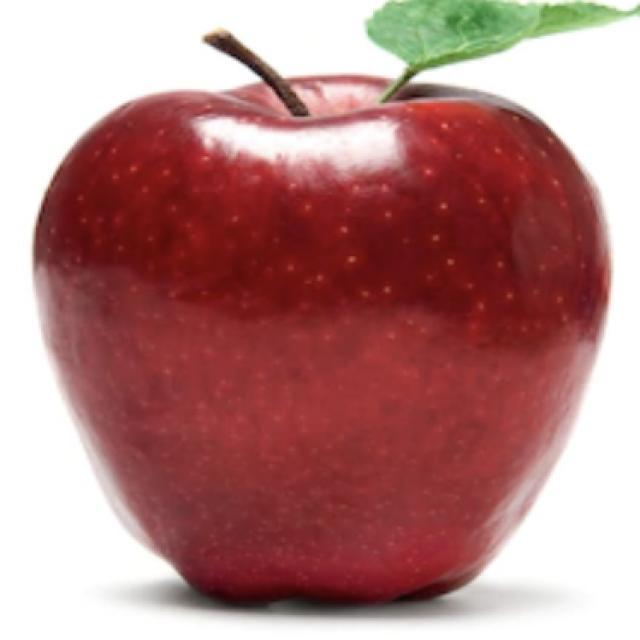Fresh Apple: (42, 80, 605, 625)
